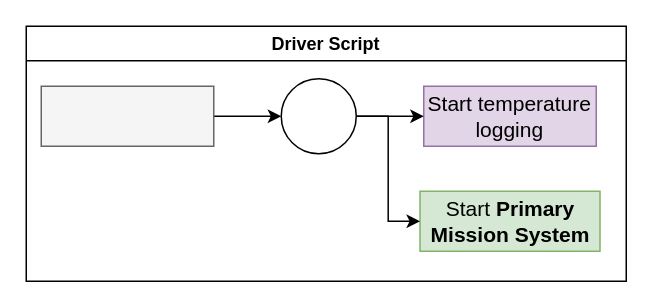
This 653x308 diagram has some shape labels left out. Each missing label, with the box of its shape:
AND: (280, 77, 356, 154)
Initialize: (40, 85, 214, 146)
